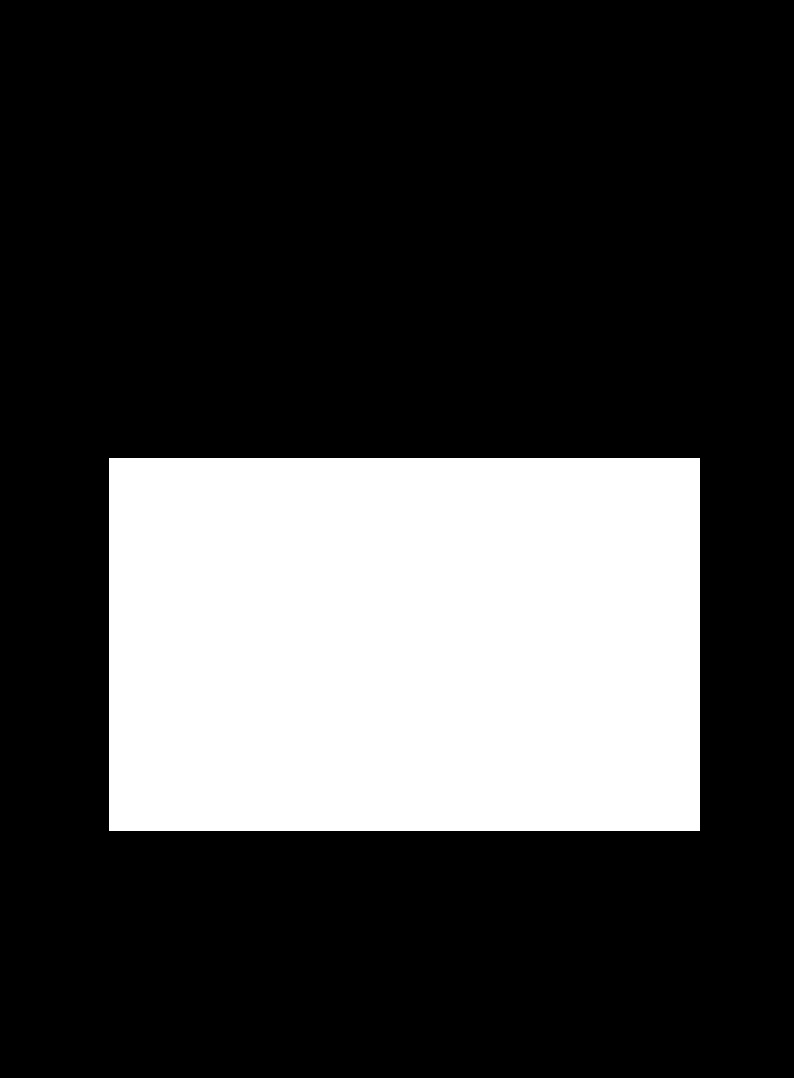table: (109, 458, 699, 830)
